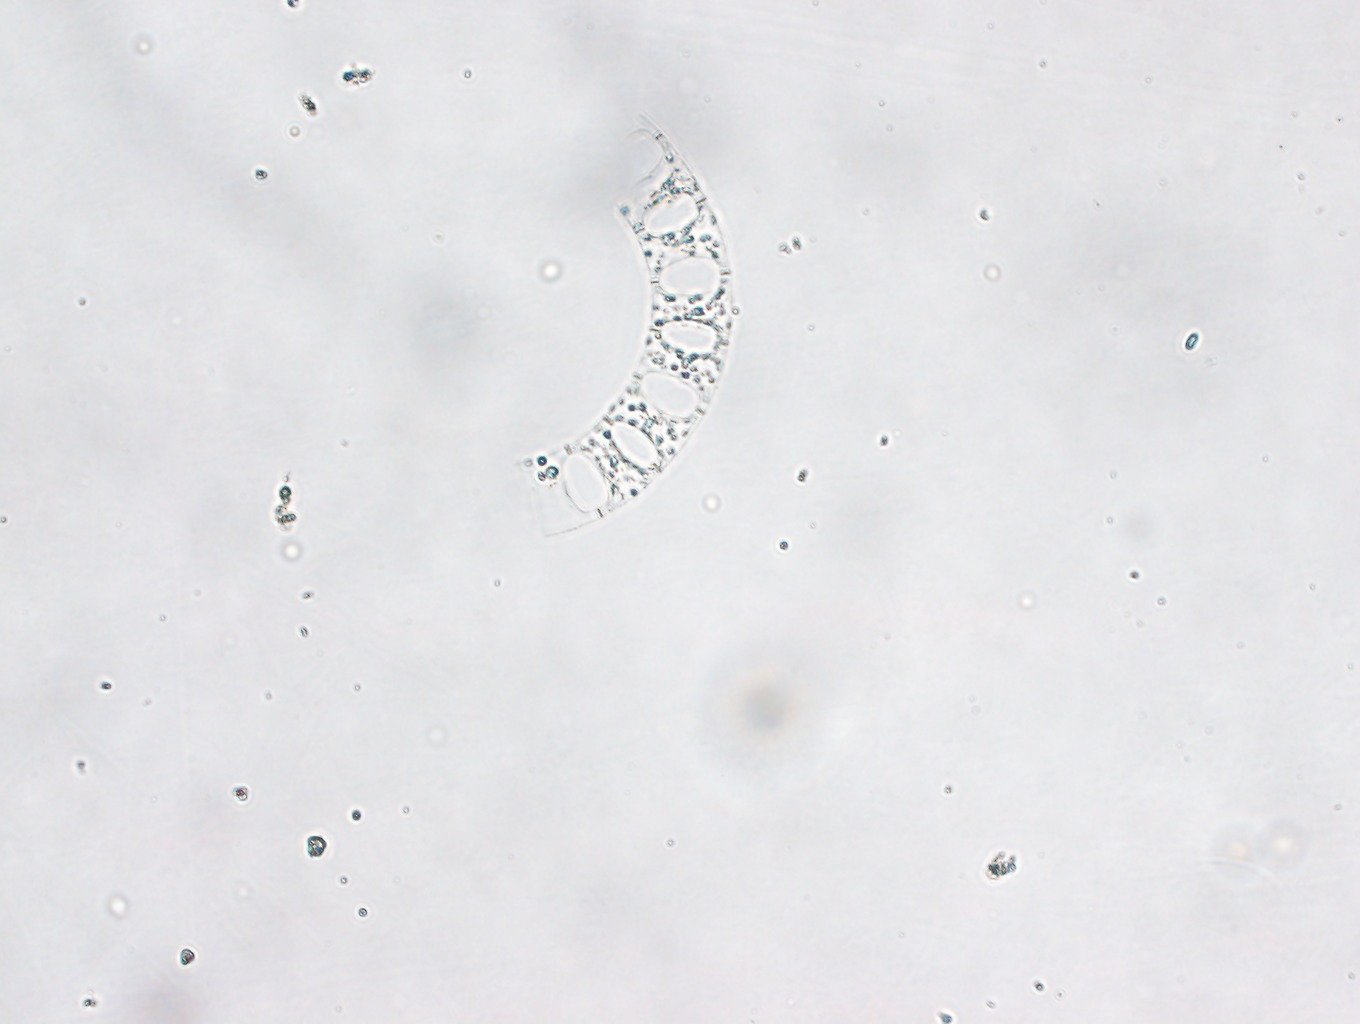eucampia: (513, 113, 734, 536)
